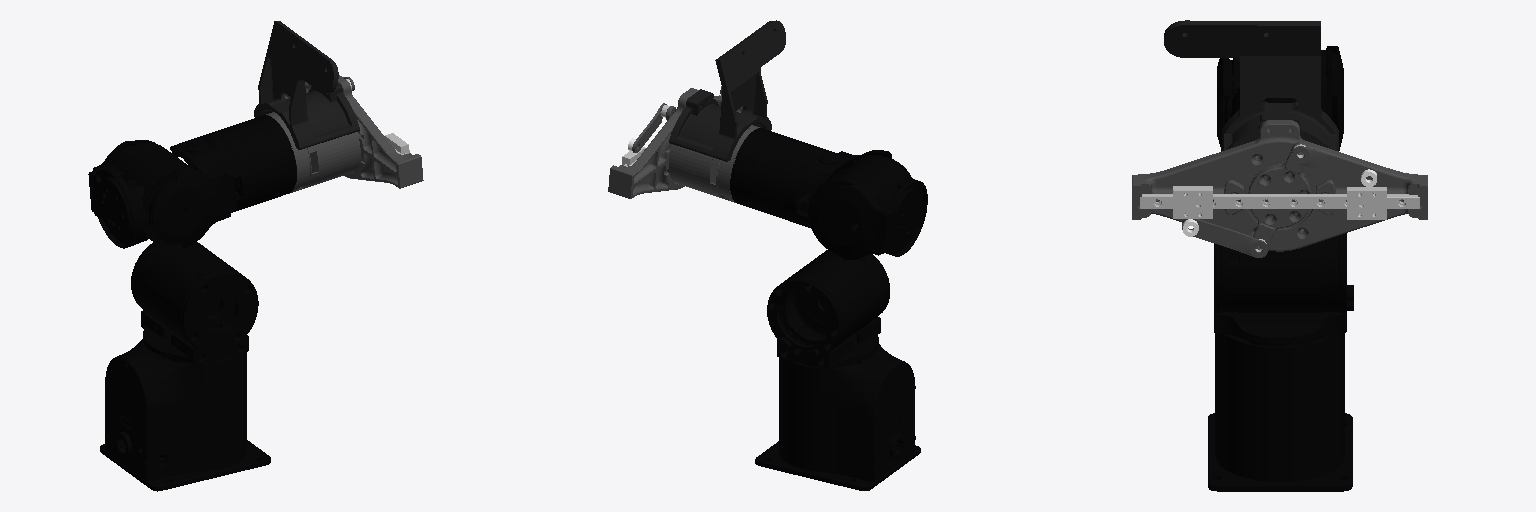
The robot description file, URDF, robot "piper_l_camera":
<?xml version="1.0" ?>
<!-- =================================================================================== -->
<!-- |    This document was autogenerated by xacro from piper_h_description.xacro      | -->
<!-- |    EDITING THIS FILE BY HAND IS NOT RECOMMENDED                                 | -->
<!-- =================================================================================== -->
<!-- This URDF was automatically created by SolidWorks to URDF Exporter! Originally created by [author] ([email redacted]) 
     Commit Version: 1.6.0-4-g7f85cfe  Build Version: 1.6.7995.38578
     For more information, please see http://wiki.ros.org/sw_urdf_exporter -->
<robot name="piper_l_camera">
  <material name="aluminum">
    <color rgba="0.5 0.5 0.5 1"/>
  </material>
  <material name="plastic">
    <color rgba="0.1 0.1 0.1 1"/>
  </material>
  <link name="d435_camera_link"/>
  <!-- camera body, with origin at bottom screw mount -->
  <joint name="camera_joint" type="fixed">
    <origin rpy="0 0 0" xyz="0 0 0"/>
    <parent link="d435_camera_link"/>
    <child link="camera_bottom_screw_frame"/>
  </joint>
  <link name="camera_bottom_screw_frame"/>
  <joint name="camera_link_joint" type="fixed">
    <origin rpy="0 0 0" xyz="0.010600000000000002 0.0175 0.0125"/>
    <parent link="camera_bottom_screw_frame"/>
    <child link="camera_link"/>
  </joint>
  <link name="camera_link">
    <visual>
      <!-- the mesh origin is at front plate in between the two infrared camera axes -->
      <origin rpy="1.5707963267948966 0 1.5707963267948966" xyz="0.0043 -0.0175 0"/>
      <geometry>
        <mesh filename="package://realsense2_description/meshes/d435.dae"/>
      </geometry>
    </visual>
    <collision>
      <origin rpy="0 0 0" xyz="0 -0.0175 0"/>
      <geometry>
        <box size="0.02505 0.09 0.025"/>
      </geometry>
    </collision>
    <inertial>
      <!-- The following are not reliable values, and should not be used for modeling -->
      <mass value="0.072"/>
      <origin xyz="0 0 0"/>
      <inertia ixx="0.003881243" ixy="0.0" ixz="0.0" iyy="0.000498940" iyz="0.0" izz="0.003879257"/>
    </inertial>
  </link>
  <!-- <xacro:if value="${add_plug}">
      <xacro:usb_plug parent="${name}_link" name="${name}_usb_plug">
        <origin xyz="${d435_cam_mount_from_center_offset - 0.02095} ${-d435_cam_depth_py - 0.0353} 0" rpy="0 0 0"/>
      </xacro:usb_plug>
    </xacro:if> -->
  <link name="base_link">
    <inertial>
      <origin rpy="0 0 0" xyz="-0.0116216679858881 4.15788440943184E-05 0.0410845423187343"/>
      <mass value="0.17076936349368"/>
      <inertia ixx="0.000228123208400866" ixy="1.38955464051488E-07" ixz="6.65141446336986E-06" iyy="0.00027812842789125" iyz="1.65175257145242E-07" izz="0.000229266732859796"/>
    </inertial>
    <visual>
      <origin rpy="0 0 0" xyz="0 0 0"/>
      <geometry>
        <mesh filename="package://piper_h_description/meshes/dae/base_link.dae"/>
      </geometry>
    </visual>
    <collision>
      <origin rpy="0 0 0" xyz="0 0 0"/>
      <geometry>
        <mesh filename="package://piper_h_description/meshes/dae/base_link.dae"/>
      </geometry>
    </collision>
  </link>
  <link name="Link1">
    <inertial>
      <origin rpy="0 0 0" xyz="0.000898972809391425 -0.0017128345134696 -0.00895795324198079"/>
      <mass value="0.095130320813071"/>
      <inertia ixx="3.89303819225542E-05" ixy="2.71827364740144E-07" ixz="1.78296584027163E-07" iyy="5.60153481205046E-05" iyz="1.02032883575856E-07" izz="4.65461363833488E-05"/>
    </inertial>
    <visual>
      <origin rpy="0 0 0" xyz="0 0 0"/>
      <geometry>
        <mesh filename="package://piper_h_description/meshes/dae/link1.dae"/>
      </geometry>
    </visual>
    <collision>
      <origin rpy="0 0 0" xyz="0 0 0"/>
      <geometry>
        <mesh filename="package://piper_h_description/meshes/dae/link1.dae"/>
      </geometry>
    </collision>
  </link>
  <joint name="joint1" type="revolute">
    <origin rpy="0 0 0" xyz="0 0 0.123"/>
    <parent link="base_link"/>
    <child link="Link1"/>
    <axis xyz="0 0 1"/>
    <limit effort="100" lower="-2.618" upper="2.618" velocity="3"/>
  </joint>
  <link name="Link2">
    <inertial>
      <origin rpy="0 0 0" xyz="0.175058051795962 -0.013263959401964 0.00160398731659567"/>
      <mass value="0.297349969020434"/>
      <inertia ixx="0.000164919085428283" ixy="6.39135842640096E-05" ixz="-1.43495991521534E-06" iyy="0.00163150429985587" iyz="-1.15776231590507E-06" izz="0.00168482164179664"/>
    </inertial>
    <visual>
      <origin rpy="0 0 0" xyz="0 0 0"/>
      <geometry>
        <mesh filename="package://piper_h_description/meshes/dae/link2.dae"/>
      </geometry>
    </visual>
    <collision>
      <origin rpy="0 0 0" xyz="0 0 0"/>
      <geometry>
        <mesh filename="package://piper_h_description/meshes/dae/link2.dae"/>
      </geometry>
    </collision>
  </link>
  <joint name="joint2" type="revolute">
    <origin rpy="1.5708 -0.13674 3.1416" xyz="0 0 0"/>
    <parent link="Link1"/>
    <child link="Link2"/>
    <axis xyz="0 0 1"/>
    <limit effort="100" lower="0" upper="3.14" velocity="3"/>
  </joint>
  <link name="Link3">
    <inertial>
      <origin rpy="0 0 0" xyz="-0.00937198976084005 -0.116255702062803 -0.000655711046030733"/>
      <mass value="0.139005088174055"/>
      <inertia ixx="0.000138596904431255" ixy="-3.43992762936895E-07" ixz="3.78558835970272E-07" iyy="4.71404976476514E-05" iyz="9.97047138050079E-07" izz="0.000149219114996657"/>
    </inertial>
    <visual>
      <origin rpy="0 0 0" xyz="0 0 0"/>
      <geometry>
        <mesh filename="package://piper_h_description/meshes/dae/link3.dae"/>
      </geometry>
    </visual>
    <collision>
      <origin rpy="0 0 0" xyz="0 0 0"/>
      <geometry>
        <mesh filename="package://piper_h_description/meshes/dae/link3.dae"/>
      </geometry>
    </collision>
  </link>
  <joint name="joint3" type="revolute">
    <origin rpy="0 0 -1.8796" xyz="0.28508 0 0"/>
    <parent link="Link2"/>
    <child link="Link3"/>
    <axis xyz="0 0 1"/>
    <limit effort="100" lower="-2.697" upper="0" velocity="3"/>
  </joint>
  <link name="Link4">
    <inertial>
      <origin rpy="0 0 0" xyz="0.00120008498546645 0.00402105386550108 -0.00901261181081513"/>
      <mass value="0.0625155037542606"/>
      <inertia ixx="4.34001804299788E-05" ixy="-1.78247237961623E-07" ixz="7.9877981542642E-07" iyy="3.77270563878061E-05" iyz="3.92168392419924E-07" izz="3.65881057070137E-05"/>
    </inertial>
    <visual>
      <origin rpy="0 0 0" xyz="0 0 0"/>
      <geometry>
        <mesh filename="package://piper_h_description/meshes/dae/link4.dae"/>
      </geometry>
    </visual>
    <collision>
      <origin rpy="0 0 0" xyz="0 0 0"/>
      <geometry>
        <mesh filename="package://piper_h_description/meshes/dae/link4.dae"/>
      </geometry>
    </collision>
  </link>
  <joint name="joint4" type="revolute">
    <origin rpy="1.5708 0 0.17203" xyz="0 -0.25666 0"/>
    <parent link="Link3"/>
    <child link="Link4"/>
    <axis xyz="-0.087161 0 0.99619"/>
    <limit effort="100" lower="-1.832" upper="1.832" velocity="3"/>
  </joint>
  <link name="Link5">
    <inertial>
      <origin rpy="0 0 0" xyz="-9.76421424187524E-05 -0.0495078447416577 -0.0069183293653338"/>
      <mass value="0.0683301439531726"/>
      <inertia ixx="8.08932317895225E-05" ixy="2.20176838731191E-07" ixz="5.56694167592644E-08" iyy="4.13226227161016E-05" iyz="1.71025553076376E-05" izz="7.62573282419664E-05"/>
    </inertial>
    <visual>
      <origin rpy="0 0 0" xyz="0 0 0"/>
      <geometry>
        <mesh filename="package://piper_h_description/meshes/dae/link5.dae"/>
      </geometry>
    </visual>
    <collision>
      <origin rpy="0 0 0" xyz="0 0 0"/>
      <geometry>
        <mesh filename="package://piper_h_description/meshes/dae/link5.dae"/>
      </geometry>
    </collision>
  </link>
  <joint name="joint5" type="revolute">
    <origin rpy="-1.5708 -0.087272 0" xyz="0 0 0"/>
    <parent link="Link4"/>
    <child link="Link5"/>
    <axis xyz="0 0 -1"/>
    <limit effort="100" lower="-1.22" upper="1.22" velocity="3"/>
  </joint>
  <link name="Link6">
    <inertial>
      <origin rpy="0 0 0" xyz="0.0769862132705599 0.0288041655584747 -0.162335527696906"/>
      <mass value="0.851169543242842"/>
      <inertia ixx="0.00204979841659076" ixy="-3.46794622727557E-05" ixz="-0.000104197916276416" iyy="0.00210041391526329" iyz="-0.000112551398932383" izz="0.000469888685422321"/>
    </inertial>
    <visual>
      <origin rpy="-1.57 0 1.57" xyz="0.008 -0.002 0.064"/>
      <geometry>
        <mesh filename="package://piper_h_description/meshes/dae/gripper_base_100_v3.dae"/>
      </geometry>
    </visual>
    <collision>
      <origin rpy="-1.57 0 1.57" xyz="0.008 -0.002 0.064"/>
      <geometry>
        <mesh filename="package://piper_h_description/meshes/dae/gripper_base_100_v3.dae"/>
      </geometry>
    </collision>
  </link>
  <joint name="joint6" type="revolute">
    <origin rpy="1.5708 0 0.0" xyz="0 -0.096 0"/>
    <parent link="Link5"/>
    <child link="Link6"/>
    <axis xyz="-0.087161 0 0.99619"/>
    <limit effort="100" lower="-3.14" upper="3.14" velocity="3"/>
  </joint>
  <link name="Link7">
    <visual>
      <inertial>
        <origin rpy="0 0 0" xyz="0.000277816920932317 0.0467673824063769 -0.00921030054508036"/>
        <mass value="0.0264822021416248"/>
        <inertia ixx="9.99779119357223E-06" ixy="-1.57542283433504E-07" ixz="2.71367446701359E-08" iyy="6.17952441557932E-06" iyz="1.58939319453383E-06" izz="1.4210192754512E-05"/>
      </inertial>
      <geometry>
        <mesh filename="package://piper_h_description/meshes/dae/link7.dae"/>
      </geometry>
    </visual>
    <collision>
      <geometry>
        <mesh filename="package://piper_h_description/meshes/dae/link7.dae"/>
      </geometry>
    </collision>
  </link>
  <joint name="joint7" type="prismatic">
    <origin rpy="1.5708 0 0" xyz="0 0 0.13503"/>
    <parent link="Link6"/>
    <child link="Link7"/>
    <axis xyz="0 0 -1"/>
    <limit effort="100" lower="0" upper="0.05" velocity="1"/>
  </joint>
  <link name="Link8">
    <inertial>
      <origin rpy="0 0 0" xyz="0.000277816920932317 0.0467673824063769 -0.00921030054508036"/>
      <mass value="0.0264822021416248"/>
      <inertia ixx="9.99779119357223E-06" ixy="-1.57542283433504E-07" ixz="2.71367446701359E-08" iyy="6.17952441557932E-06" iyz="1.58939319453383E-06" izz="1.4210192754512E-05"/>
    </inertial>
    <visual>
      <origin rpy="0 0 0" xyz="0 0 0"/>
      <geometry>
        <mesh filename="package://piper_h_description/meshes/dae/link8.dae"/>
      </geometry>
    </visual>
    <collision>
      <origin rpy="0 0 0" xyz="0 0 0"/>
      <geometry>
        <mesh filename="package://piper_h_description/meshes/dae/link8.dae"/>
      </geometry>
    </collision>
  </link>
  <joint name="joint8" type="prismatic">
    <origin rpy="-1.5708 0 0" xyz="0 0 0.13503"/>
    <parent link="Link6"/>
    <child link="Link8"/>
    <axis xyz="0 0 1"/>
    <limit effort="100" lower="-0.05" upper="0" velocity="1"/>
  </joint>
  <link name="camera_stand_link">
    <inertial>
      <origin rpy="0.0 0.0 0.0" xyz="0.0 0.0 0.0"/>
      <mass value="0.0"/>
      <inertia ixx="0.0" ixy="0.0" ixz="0.0" iyy="0.0" iyz="0.0" izz="0.0"/>
    </inertial>
    <visual name="">
      <origin rpy="0.0 3.14 1.57" xyz="0.0 0.0 0.0"/>
      <geometry>
        <mesh filename="package://piper_h_description/meshes/dae/realsense_mid_stand_v2.dae"/>
      </geometry>
    </visual>
    <collision>
      <origin rpy="0.0 0.0 0.0" xyz="0.0 0.0 0.0"/>
      <geometry>
        <mesh filename="package://piper_h_description/meshes/dae/realsense_mid_stand_v2.dae"/>
      </geometry>
    </collision>
  </link>
  <joint name="camera_stand_joint" type="fixed">
    <origin rpy="0 0 0" xyz="-0.034 -0.002 0.023"/>
    <parent link="Link6"/>
    <child link="camera_stand_link"/>
    <axis xyz="0.0 0.0 0.0"/>
    <limit effort="0.0" lower="0.0" upper="0.0" velocity="0.0"/>
  </joint>
  <joint name="d435_camera_joint" type="fixed">
    <origin rpy="0.0 -1.22 0" xyz="-0.032 -0.028 0.0"/>
    <parent link="camera_stand_link"/>
    <child link="d435_camera_link"/>
    <axis xyz="0.0 0.0 0.0"/>
    <limit effort="0.0" lower="0.0" upper="0.0" velocity="0.0"/>
  </joint>
</robot>

--- What the picture shows (computed from the rendered views, not written in the file) ---
Views: 3 orthographic renders of the robot side by side, from view 1: azimuth 30°, elevation 25°; view 2: azimuth 150°, elevation 25°; view 3: azimuth 270°, elevation 25°.
Robot: piper_l_camera — 13 links, 12 joints (6 revolute, 2 prismatic, 4 fixed); root link base_link; default pose: every joint at zero.
Links seen in each view (by area): view 1: base_link, Link1, Link5, camera_stand_link, Link4, Link6; view 2: base_link, Link1, Link4, camera_stand_link, Link5, Link6; view 3: Link6, base_link, camera_stand_link, Link1, Link4, Link5.
Link boxes in pixels (x1,y1,x2,y2): base_link: [100, 339, 270, 491]; Link1: [131, 242, 258, 364]; Link5: [149, 115, 296, 248]; camera_stand_link: [254, 21, 359, 149]; Link4: [88, 140, 192, 248]; Link6: [266, 75, 423, 193]; base_link: [755, 344, 920, 490]; Link1: [767, 250, 889, 369]; Link4: [808, 155, 927, 259]; camera_stand_link: [669, 20, 785, 161]; Link5: [730, 128, 912, 227]; Link6: [608, 86, 759, 202]; Link6: [1132, 120, 1427, 257]; base_link: [1208, 334, 1352, 491]; camera_stand_link: [1164, 20, 1338, 151]; Link1: [1214, 233, 1353, 346]; Link4: [1232, 46, 1343, 150]; Link5: [1217, 58, 1330, 146].
Bounding box of the posed robot: 0.2062 × 0.164 × 0.3044 m (x, y, z).
Meshes: 11 distinct files referenced, 6 mesh visuals loaded (6 Collada DAE); not drawn: 5 (reference not matched to a file when rendering).
